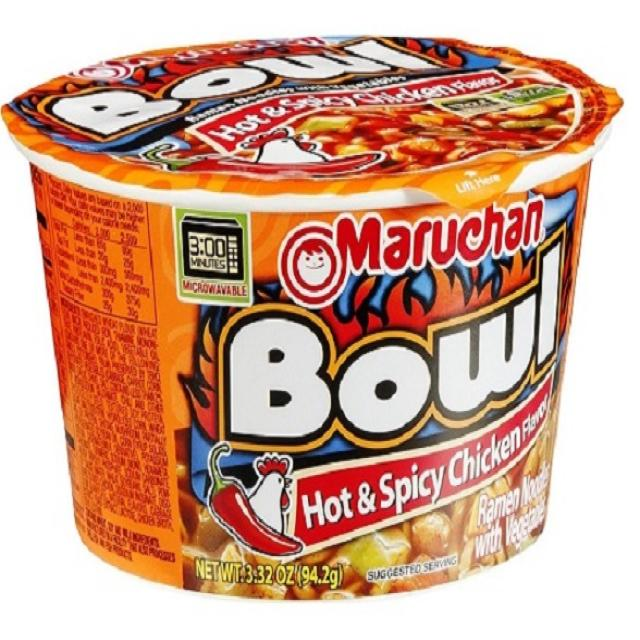Caja: (2, 22, 627, 618)
